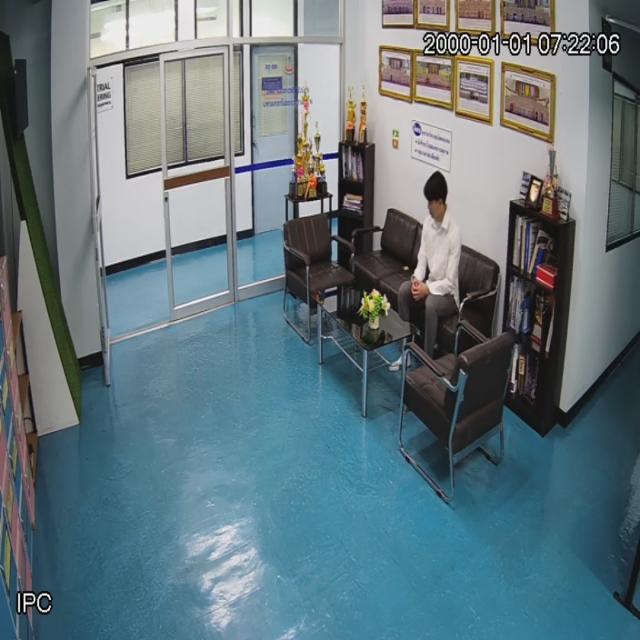normal: (401, 164, 469, 380)
